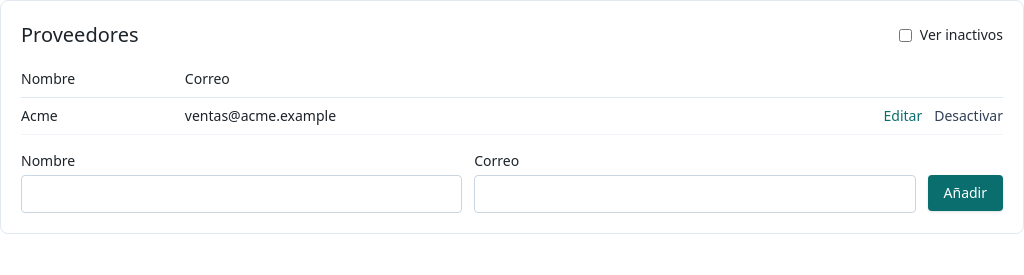
Test: TablaLista › no llama a la API si faltan datos en el alta
Expected: the text "Acme" is shown, [21, 98, 185, 134]
Click the button "Añadir".
click(965, 193)  # box [928, 175, 1003, 211]
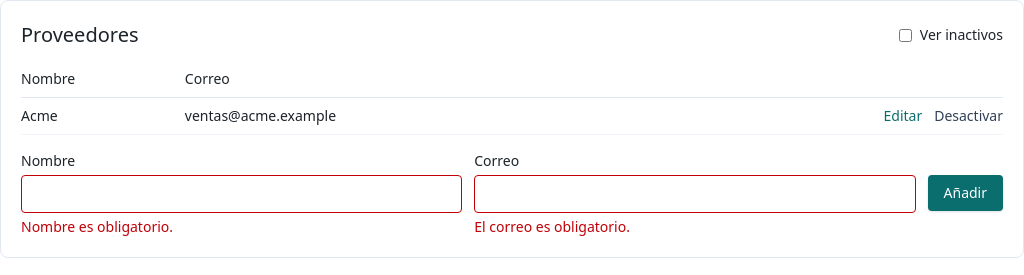
Result: the text "Nombre es obligatorio." is shown at [21, 217, 173, 236]
Result: the text "El correo es obligatorio." is shown at [474, 217, 630, 236]
